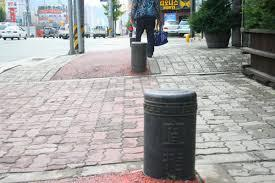Animal: (148, 89, 197, 167), (124, 41, 148, 74)
